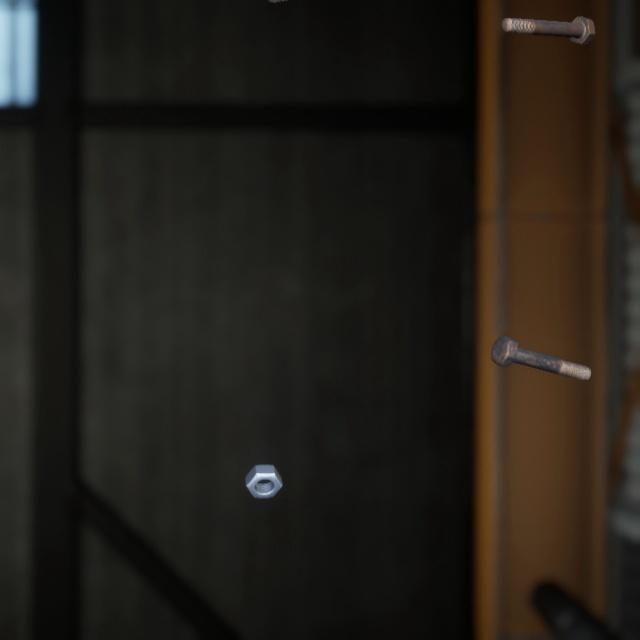bolt: (487, 312, 595, 367), (496, 4, 599, 41)
nut: (240, 438, 287, 481)
